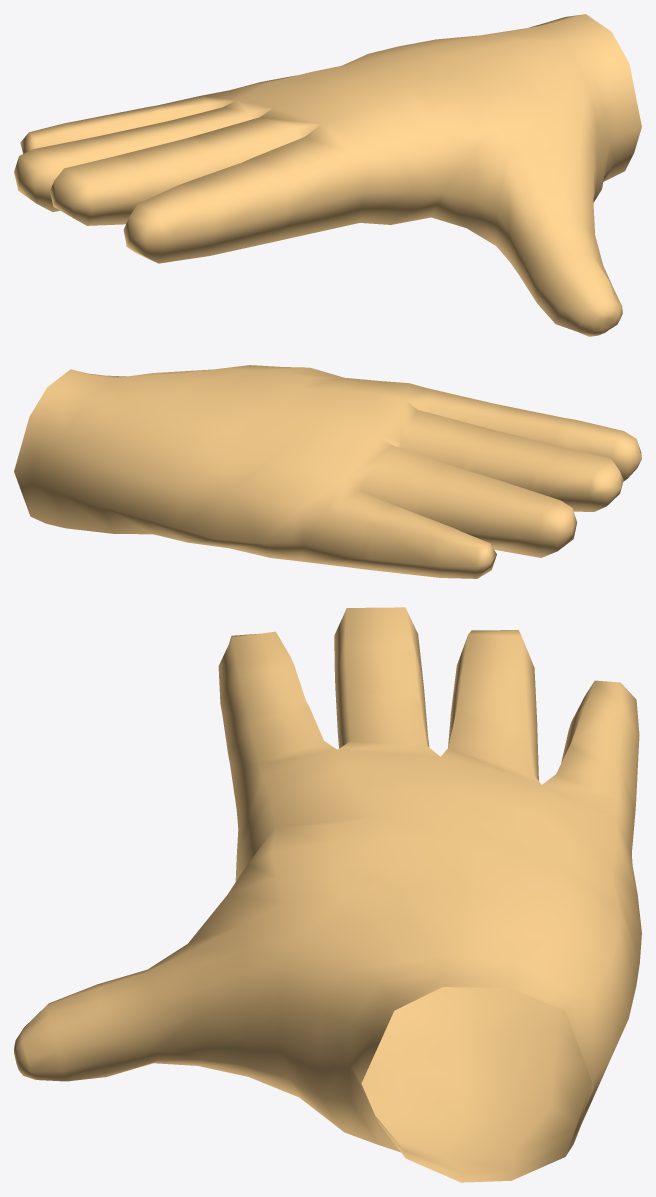
The model's file is Right_Arm_01.fbx.
The picture shows the model from 3 angles, top to bottom: view 1: azimuth 30°, elevation 25°; view 2: azimuth 150°, elevation 25°; view 3: azimuth 270°, elevation 25°; orthographic projection. The views are drawn at different scales.
Parts seen in each view (by area): view 1: Right_Arm_01; view 2: Right_Arm_01; view 3: Right_Arm_01.
Part boxes in pixels (<box>): Right_Arm_01: <box>14,14,641,336</box>; Right_Arm_01: <box>14,365,641,578</box>; Right_Arm_01: <box>14,607,641,1182</box>.
Bounding box in the file's own units: 23.92 × 6.62 × 16.65.
